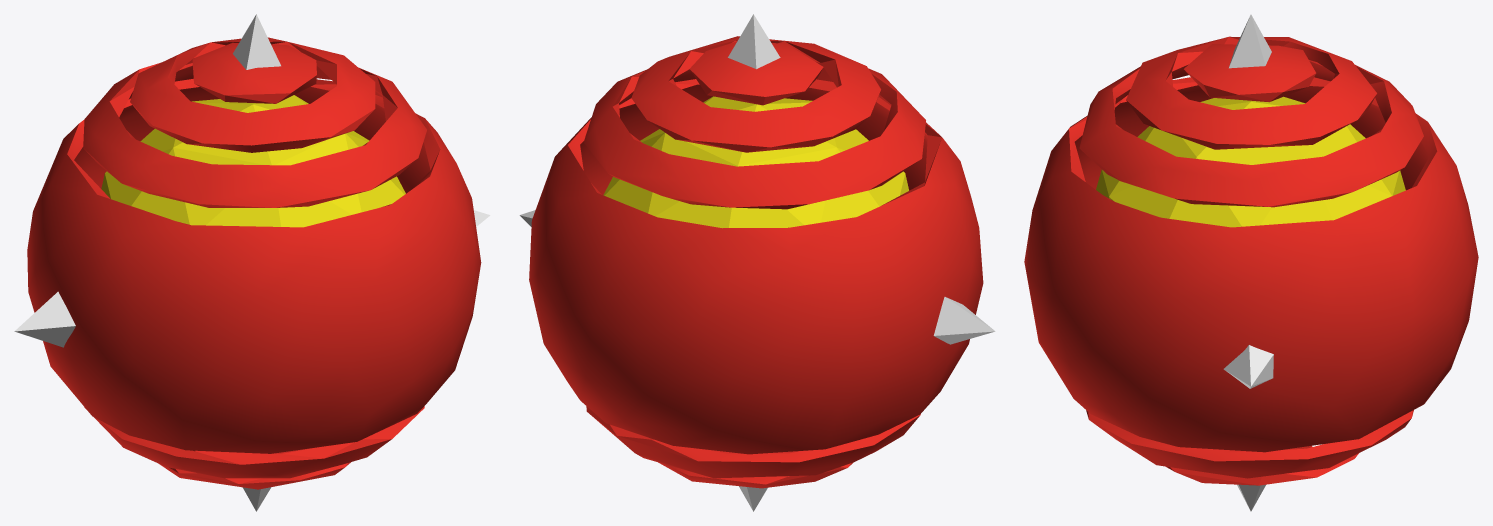
Rendered from Enemy23.fbx.
The picture shows the model from 3 angles, left to right: view 1: azimuth 30°, elevation 25°; view 2: azimuth 150°, elevation 25°; view 3: azimuth 270°, elevation 25°; orthographic projection.
Parts seen in each view (by area): view 1: Enemy; view 2: Enemy; view 3: Enemy.
Part boxes in pixels (x1,y1,x2,y2): Enemy: (14, 14, 490, 511); Enemy: (519, 14, 995, 511); Enemy: (1024, 14, 1478, 511).
Bounding box in the file's own units: 243 × 243 × 201.
